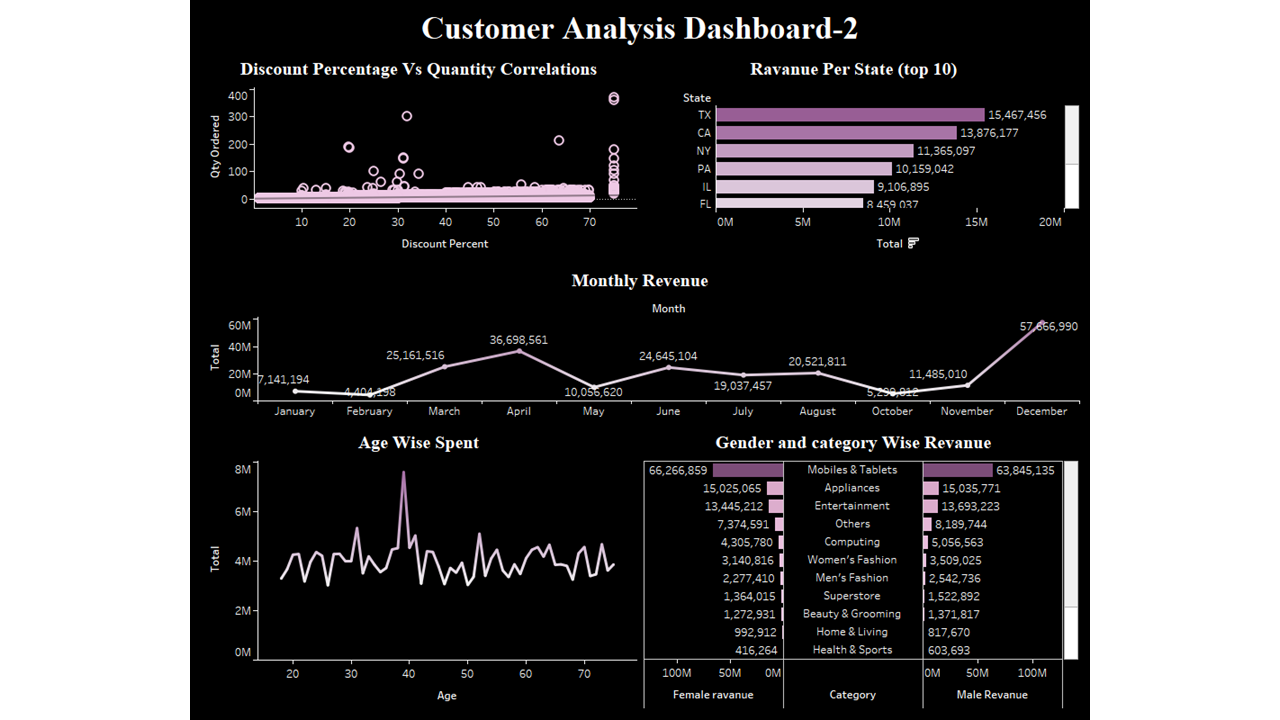

What the dashboard file says about the page in this screenshot:
{"tool":"tableau","page":{"name":"Dashboard 2","canvas":[1000,800],"ordinal":1},"visuals":[{"type":"text","box":[8,8,984,47]},{"type":"worksheet","title":"Quantity-Discount Correlation ","mark":"Automatic","rows":["qty_ordered"],"cols":["Discount_Percent"],"box":[8,55,492,221.8]},{"type":"worksheet","title":"Ravanue Per State (top 10)","mark":"Automatic","rows":["State"],"cols":["total"],"box":[500,55,492,221.8]},{"type":"worksheet","title":"Monthly Ravanue","mark":"Line","rows":["total"],"cols":["month"],"box":[8,276.8,984,192.8]},{"type":"worksheet","title":"Age Wise Spent","mark":"Automatic","rows":["total"],"cols":["age"],"box":[8,469.6,492,322.4]},{"type":"worksheet","title":"Gender and category Wise Revanue","mark":"Automatic","rows":["category"],"cols":["Calculation_227994755008974857","Calculation_227994755006771208","Calculation_227994755009200138"],"box":[500,469.6,492,322.4]}]}

Visuals, with their boxes on the page's 1000x800 design canvas (x1, y1, x2, y2). These are canvas units, not pixel positions in the 1280x720 screenshot, which may show the page scaled, cropped or inside an application window:
text: BBox(8, 8, 992, 55)
"Quantity-Discount Correlation " worksheet: BBox(8, 55, 500, 277)
"Ravanue Per State (top 10)" worksheet: BBox(500, 55, 992, 277)
"Monthly Ravanue" worksheet (Line marks): BBox(8, 277, 992, 470)
"Age Wise Spent" worksheet: BBox(8, 470, 500, 792)
"Gender and category Wise Revanue" worksheet: BBox(500, 470, 992, 792)
